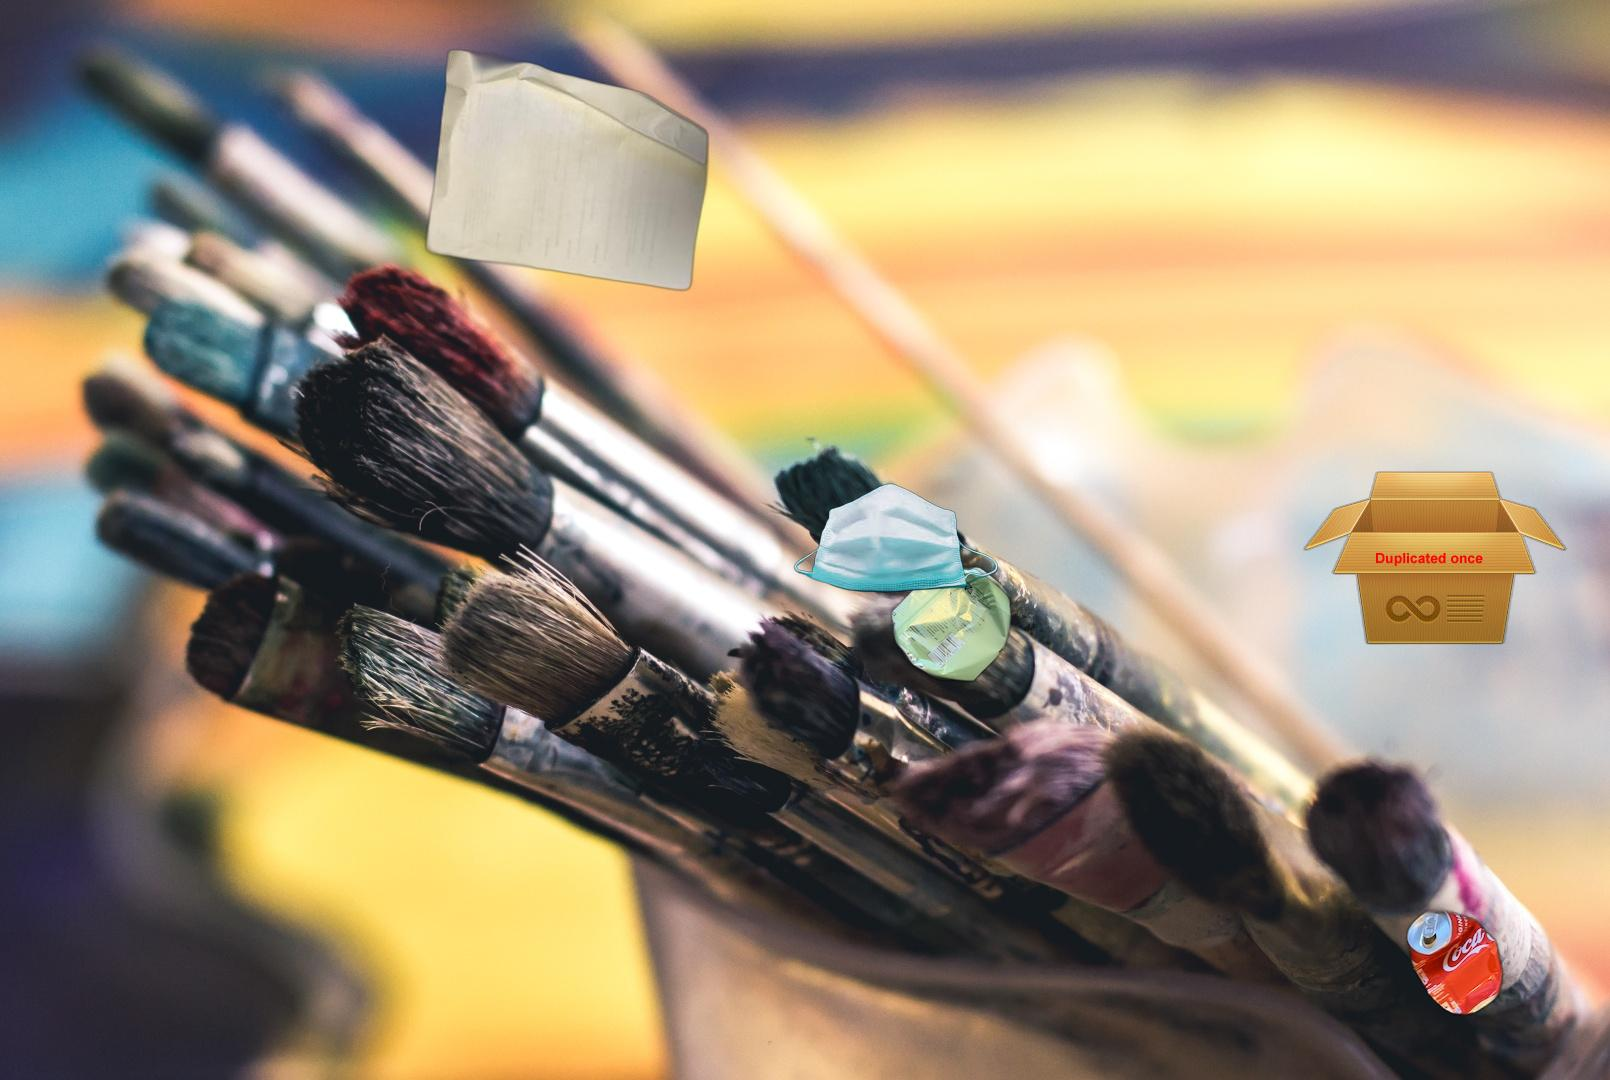metal-cans: (888, 560, 1015, 688), (1402, 904, 1508, 1022)
paper: (421, 46, 712, 294)
plastic-bottles: (768, 1041, 1077, 1080)
trash: (793, 481, 1001, 595)
trashbox-cardboard: (1299, 463, 1610, 647)
